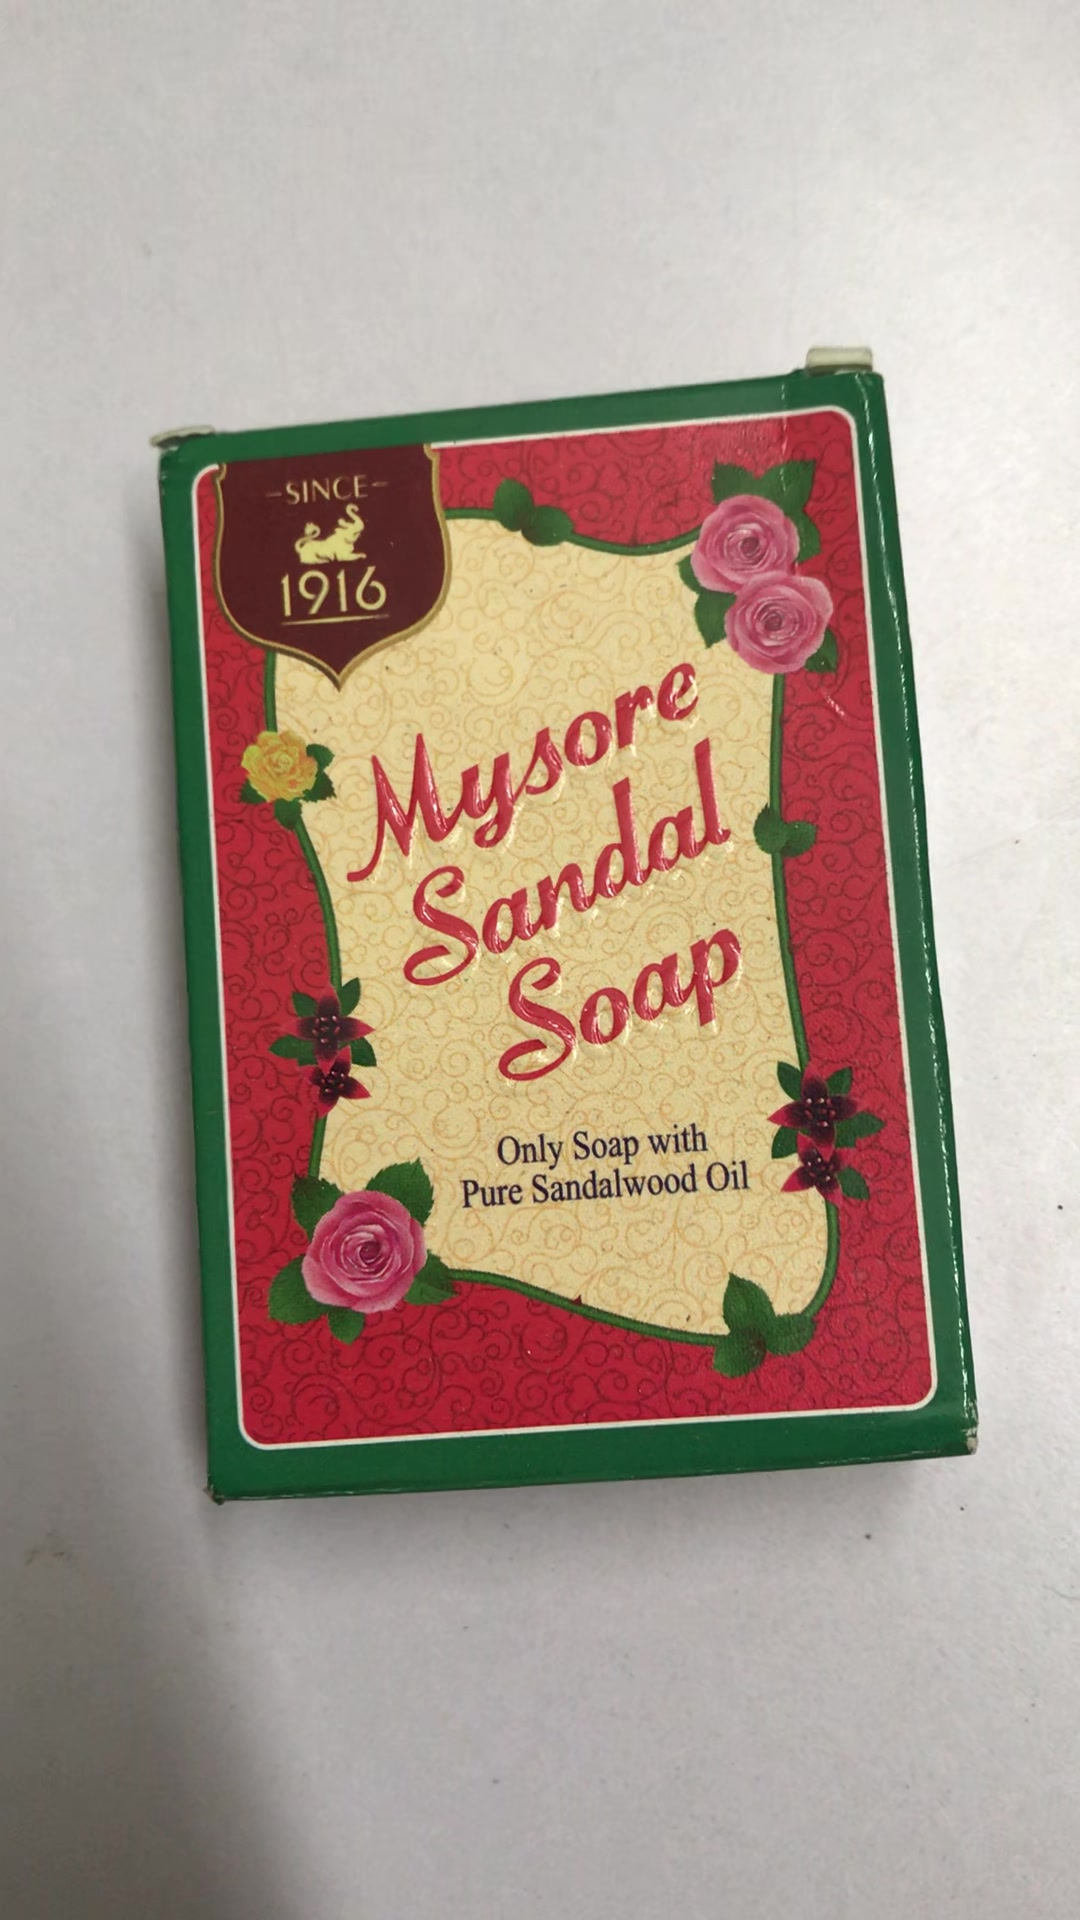mysore sandal soap: (161, 363, 978, 1495)
